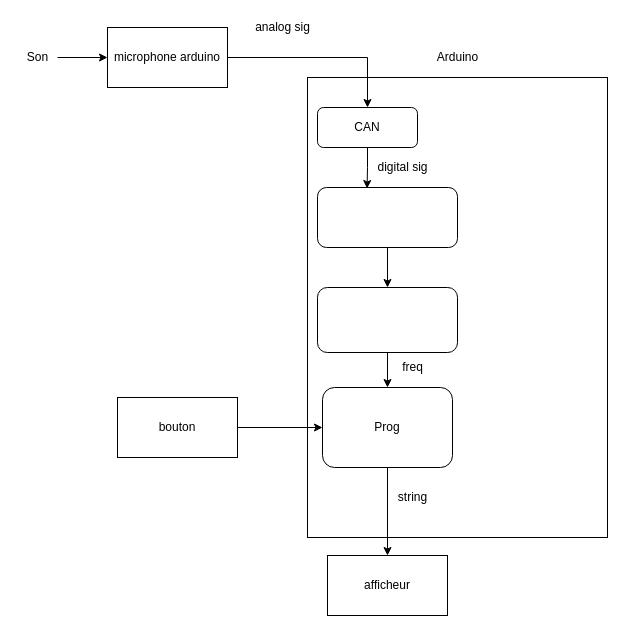
Image size: 625x633. Some labels were removed from this diagram. The shapes that lost their labels are listed below. From the top down, each one's box as (x1, y1, x2, y2) in pixels, then its label:
(316, 186, 458, 248): Filtrage/pré-traitement
(316, 286, 458, 352): FFT
